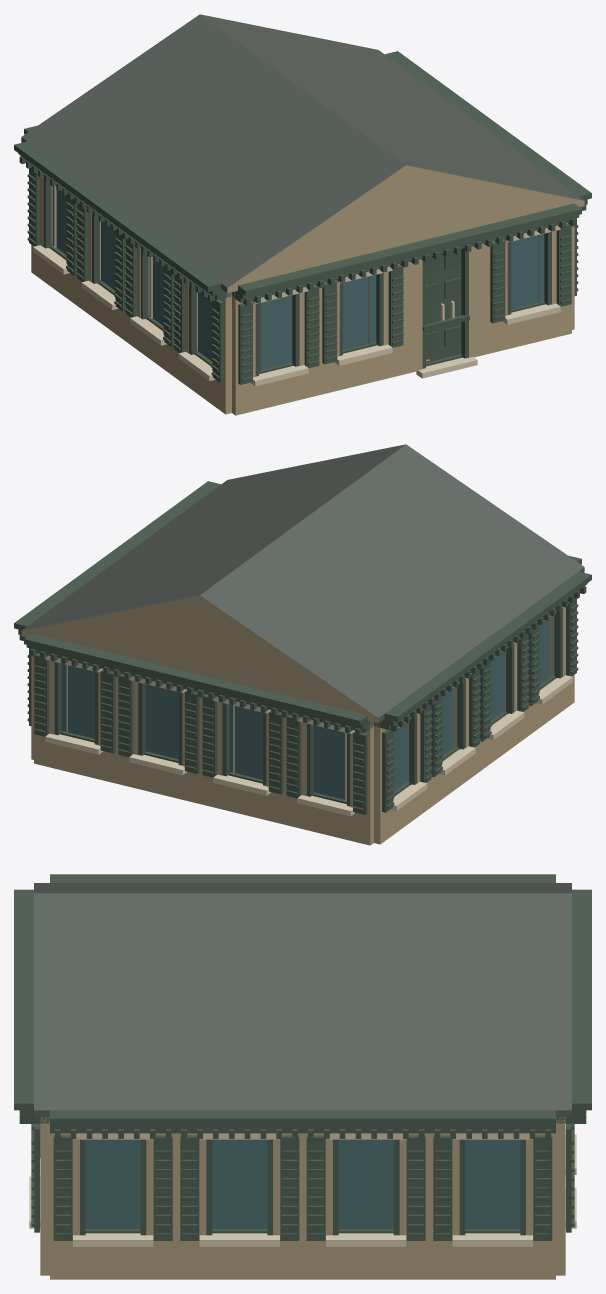
File: garden-cottage.glb
3 views of the same model, one above another, from view 1: azimuth 30°, elevation 25°; view 2: azimuth 150°, elevation 25°; view 3: azimuth 270°, elevation 25° (orthographic). The views are drawn at different scales.
Parts seen in each view (by area): view 1: Roof main, Gable main, main/north/0/6250/wall, main/north/0/1250/wall, main/north/0/8750/wall, main/north/0/3750/wall, main/north/0/6250/frame, main/west/0/8750/wall, main/north/0/1250/glass, main/north/0/8750/glass, main/north/0/3750/glass, main/north/0/8750/frame (+38 smaller); view 2: Roof main, Gable main, main/south/0/1250/wall, main/south/0/8750/wall, main/south/0/3750/wall, main/south/0/6250/wall, main/west/0/1250/wall, main/south/0/1250/glass, main/south/0/3750/glass, main/south/0/6250/glass, main/south/0/8750/glass, main/south/0/6250/frame (+39 smaller); view 3: Roof main, main/east/0/1250/wall, main/east/0/8750/wall, main/east/0/3750/wall, main/east/0/6250/wall, main/east/0/1250/glass, main/east/0/3750/glass, main/east/0/6250/glass, main/east/0/8750/glass, main/east/0/1250/door, main/east/0/3750/door, main/east/0/6250/door (+29 smaller).
Boxes of the visible parts, x1,y1,x2,y2 form: Roof main: (21,14,584,292); Gable main: (227,165,584,293); main/north/0/6250/wall: (403,243,487,374); main/north/0/1250/wall: (232,284,319,415); main/north/0/8750/wall: (487,223,571,353); main/north/0/3750/wall: (319,264,403,394); main/north/0/6250/frame: (422,248,469,368); main/west/0/8750/wall: (177,283,231,414); main/north/0/1250/glass: (259,295,292,369); main/north/0/8750/glass: (511,234,544,308); main/north/0/3750/glass: (343,275,376,349); main/north/0/8750/frame: (493,232,571,320); Roof main: (21,444,584,722); Gable main: (21,595,378,723); main/south/0/1250/wall: (286,714,373,845); main/south/0/8750/wall: (34,653,118,783); main/south/0/3750/wall: (202,694,286,824); main/south/0/6250/wall: (118,673,202,804); main/west/0/1250/wall: (374,713,428,844); main/south/0/1250/glass: (313,725,346,799); main/south/0/3750/glass: (229,705,262,779); main/south/0/6250/glass: (145,684,178,759); main/south/0/8750/glass: (61,664,94,738); main/south/0/6250/frame: (118,682,196,770); Roof main: (34,883,571,1116); main/east/0/1250/wall: (429,1133,555,1279); main/east/0/8750/wall: (50,1133,176,1279); main/east/0/3750/wall: (303,1133,429,1279); main/east/0/6250/wall: (176,1133,302,1279); main/east/0/1250/glass: (465,1139,520,1228); main/east/0/3750/glass: (338,1139,393,1228); main/east/0/6250/glass: (212,1139,267,1228); main/east/0/8750/glass: (85,1139,140,1228); main/east/0/1250/door: (433,1135,552,1240); main/east/0/3750/door: (306,1135,425,1240); main/east/0/6250/door: (180,1135,299,1240).
Bounding box in the file's own units: 9.13 × 4.9 × 9.13.
